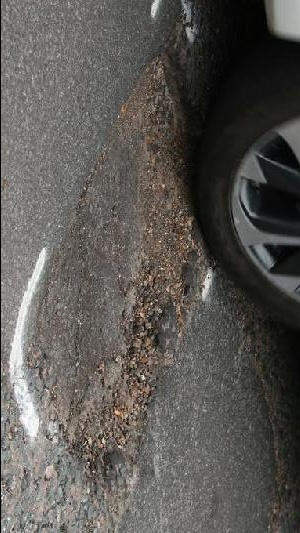pothole: (55, 48, 208, 468)
